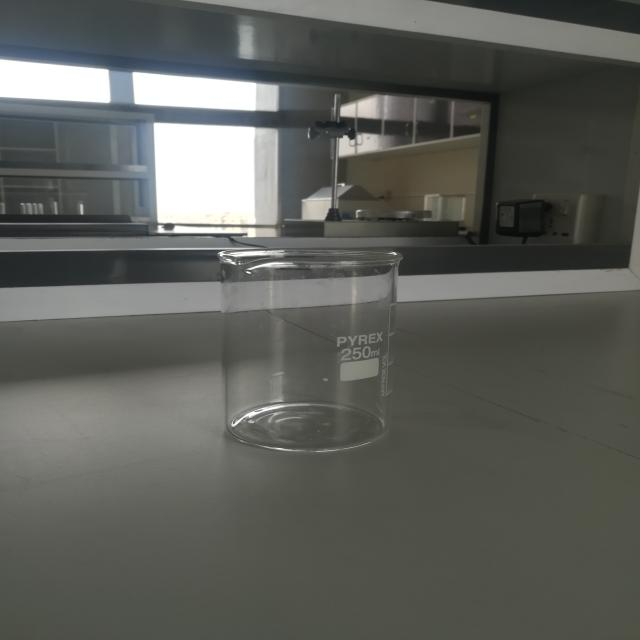Beaker: (155, 189, 456, 497)
